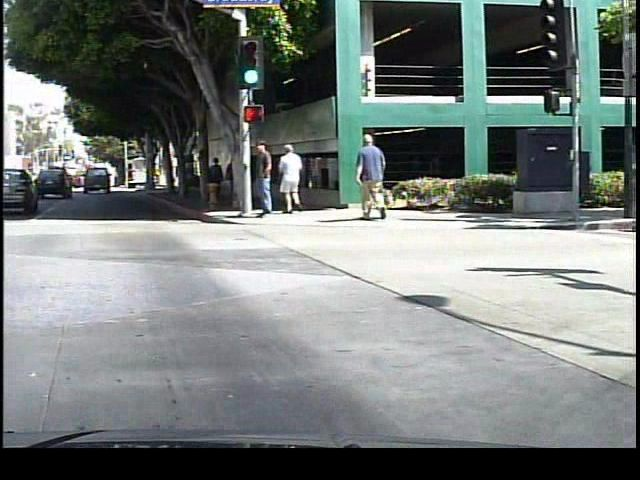person: (350, 129, 391, 220), (249, 136, 279, 225), (274, 140, 305, 214), (209, 155, 225, 201)
